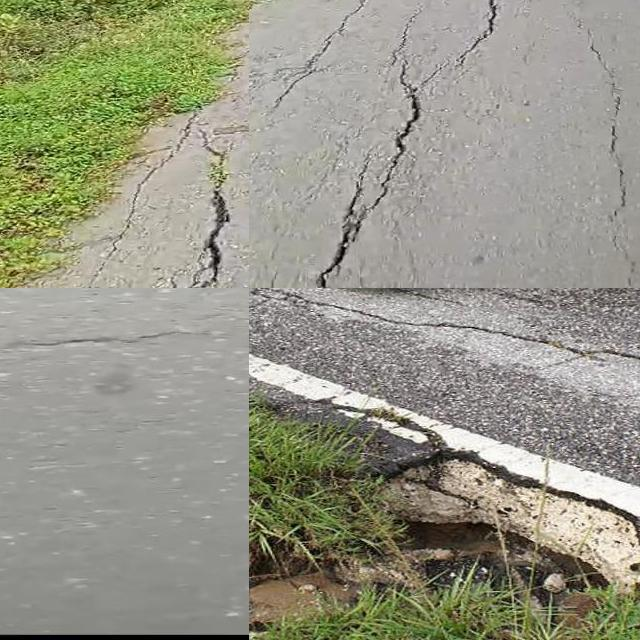Memanjang: (303, 0, 509, 288), (577, 23, 636, 244)
Pinggir: (250, 400, 640, 640), (4, 0, 249, 288)
